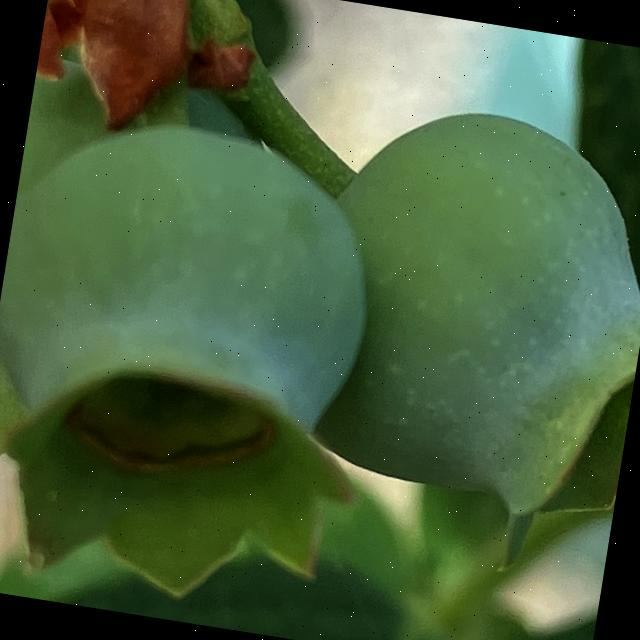Blueberries: (0, 92, 433, 627), (292, 86, 640, 533)
